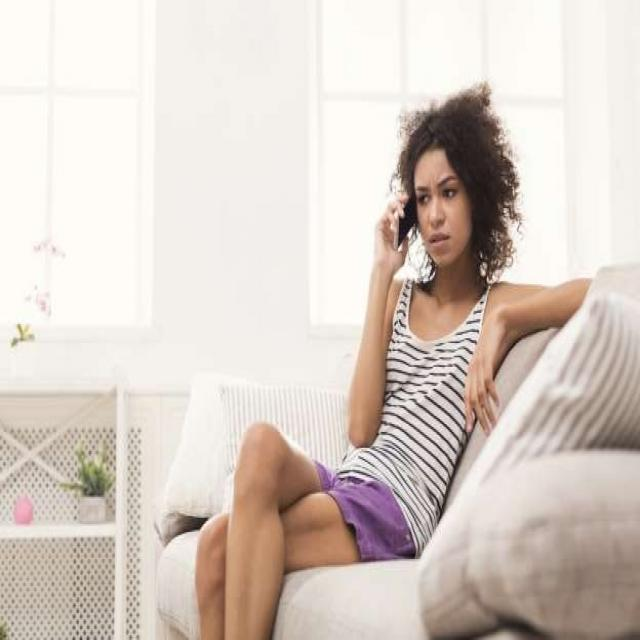phone: (362, 165, 439, 270)
